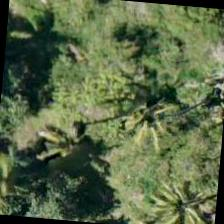Kelapa_Sawit: (18, 104, 116, 202), (107, 76, 205, 174), (134, 179, 218, 223)
